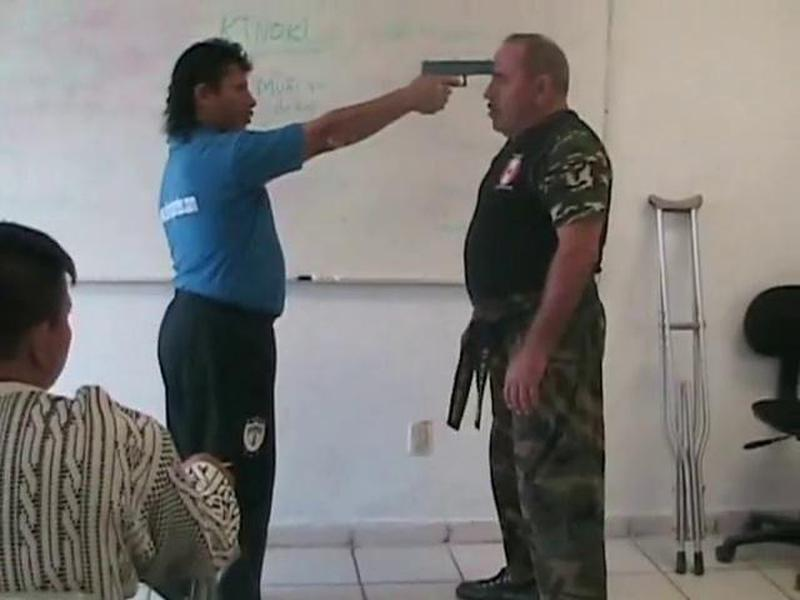Pistola: (408, 45, 498, 104)
